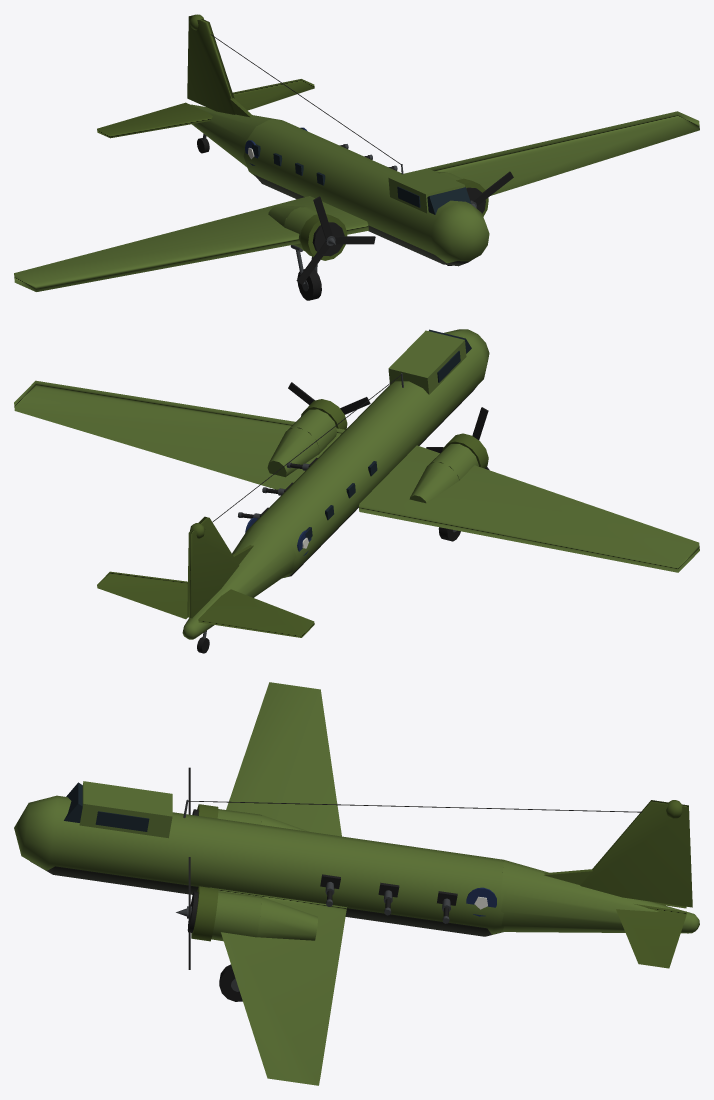
The model's file is ac47-spooky.glb.
The picture shows the model from 3 angles, top to bottom: view 1: azimuth 30°, elevation 25°; view 2: azimuth 150°, elevation 25°; view 3: azimuth 270°, elevation 25°; orthographic projection. The views are drawn at different scales.
Parts seen in each view (by area): view 1: Mesh_Fuselage, Mesh_MainWingRight, Mesh_MainWingLeft, Mesh_TailFin, Mesh_TailTaper, Mesh_StabilizerRight, Mesh_CockpitHump, Mesh_StabilizerLeft, Mesh_Belly, Mesh_CowlR, Mesh_Windshield, Mesh_NacelleR (+2 smaller); view 2: Mesh_MainWingRight, Mesh_Fuselage, Mesh_MainWingLeft, Mesh_TailTaper, Mesh_TailFin, Mesh_StabilizerRight, Mesh_CockpitHump, Mesh_StabilizerLeft, Mesh_NacelleAftL, Mesh_NacelleAftR, Mesh_NacelleL, Mesh_NacelleR (+2 smaller); view 3: Mesh_Fuselage, Mesh_MainWingLeft, Mesh_MainWingRight, Mesh_TailFin, Mesh_TailTaper, Mesh_CockpitHump, Mesh_StabilizerLeft, Mesh_Belly, Mesh_NacelleL, Mesh_NacelleAftL, Mesh_CowlL, Mesh_CockpitWinL (+1 smaller).
Boxes of the visible parts, left/top/right/bottom form: Mesh_Fuselage: left=243, top=120, right=489, bottom=263; Mesh_MainWingRight: left=14, top=196, right=368, bottom=291; Mesh_MainWingLeft: left=403, top=111, right=699, bottom=195; Mesh_TailFin: left=187, top=15, right=234, bottom=114; Mesh_TailTaper: left=191, top=105, right=282, bottom=167; Mesh_StabilizerRight: left=97, top=102, right=212, bottom=138; Mesh_CockpitHump: left=388, top=168, right=464, bottom=213; Mesh_StabilizerLeft: left=233, top=79, right=314, bottom=110; Mesh_Belly: left=253, top=174, right=471, bottom=266; Mesh_CowlR: left=300, top=214, right=347, bottom=260; Mesh_Windshield: left=427, top=187, right=470, bottom=214; Mesh_NacelleR: left=284, top=207, right=317, bottom=250; Mesh_MainWingRight: left=359, top=445, right=699, bottom=572; Mesh_Fuselage: left=246, top=329, right=489, bottom=577; Mesh_MainWingLeft: left=14, top=380, right=345, bottom=489; Mesh_TailTaper: left=184, top=523, right=296, bottom=636; Mesh_TailFin: left=187, top=516, right=239, bottom=618; Mesh_StabilizerRight: left=198, top=589, right=314, bottom=637; Mesh_CockpitHump: left=388, top=330, right=466, bottom=394; Mesh_StabilizerLeft: left=97, top=571, right=187, bottom=619; Mesh_NacelleAftL: left=267, top=427, right=319, bottom=477; Mesh_NacelleAftR: left=409, top=462, right=459, bottom=503; Mesh_NacelleL: left=287, top=409, right=336, bottom=454; Mesh_NacelleR: left=429, top=444, right=478, bottom=480; Mesh_Fuselage: left=14, top=795, right=503, bottom=934; Mesh_MainWingLeft: left=210, top=887, right=346, bottom=1085; Mesh_MainWingRight: left=226, top=682, right=341, bottom=836; Mesh_TailFin: left=580, top=800, right=692, bottom=907; Mesh_TailTaper: left=501, top=859, right=691, bottom=933; Mesh_CockpitHump: left=79, top=781, right=172, bottom=838; Mesh_StabilizerLeft: left=616, top=904, right=686, bottom=968; Mesh_Belly: left=30, top=861, right=503, bottom=936; Mesh_NacelleL: left=211, top=891, right=261, bottom=941; Mesh_NacelleAftL: left=257, top=897, right=317, bottom=940; Mesh_CowlL: left=191, top=886, right=218, bottom=941; Mesh_CockpitWinL: left=95, top=811, right=149, bottom=831.
Bounding box in the file's own units: 26.3 × 5.3 × 19.76.
